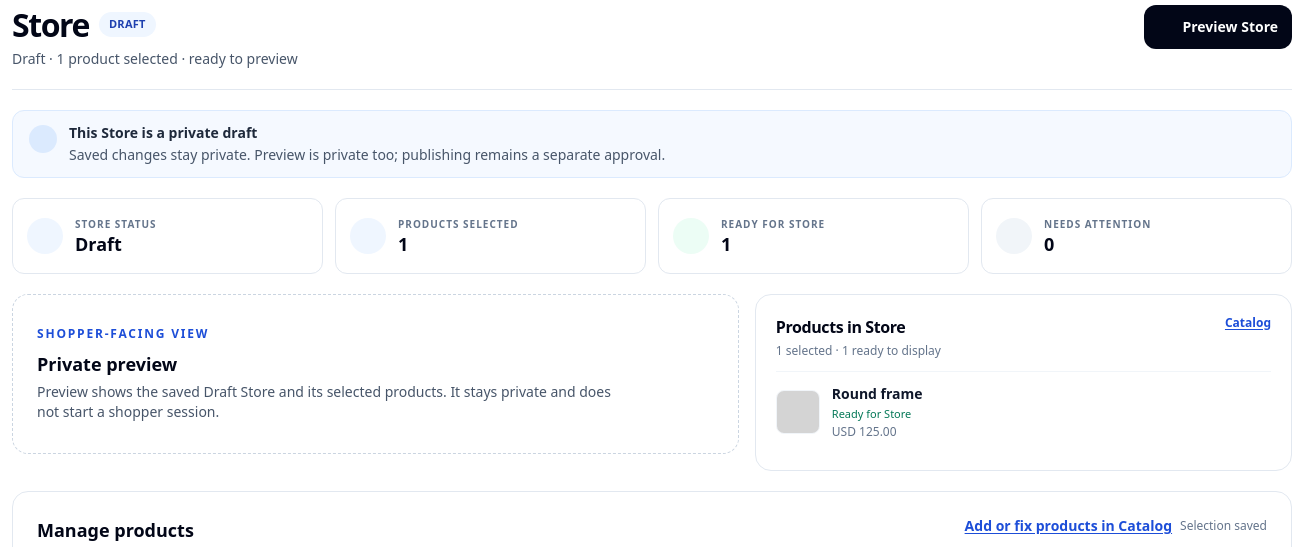
Test case: MerchantStoreWorkspace lifecycle UX › tracks both B2B publish events only after an approved Draft becomes Live
What coordinates should you click on to do the following:
click the button "Preview Store"
I would click on:
 (1218, 27)
Its box is [1144,5,1292,49].
(page scrolled)
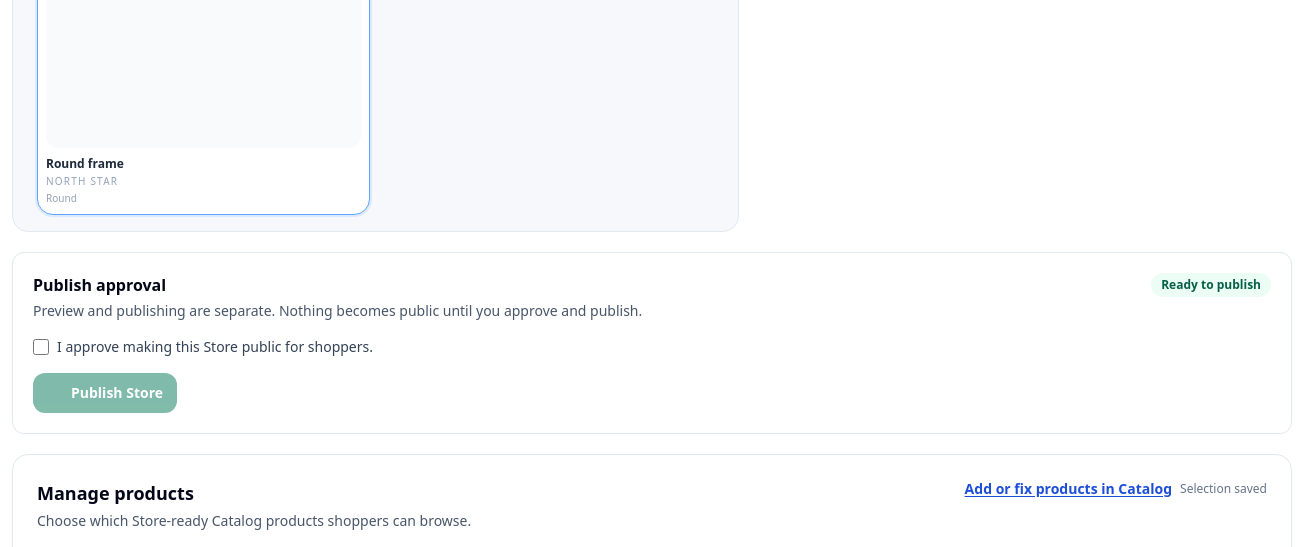
What coordinates should you click on to do the following:
click the checkbox named "I approve publishing this Store publicly"
I would click on:
 (41, 347)
Its box is [33,339,49,355].
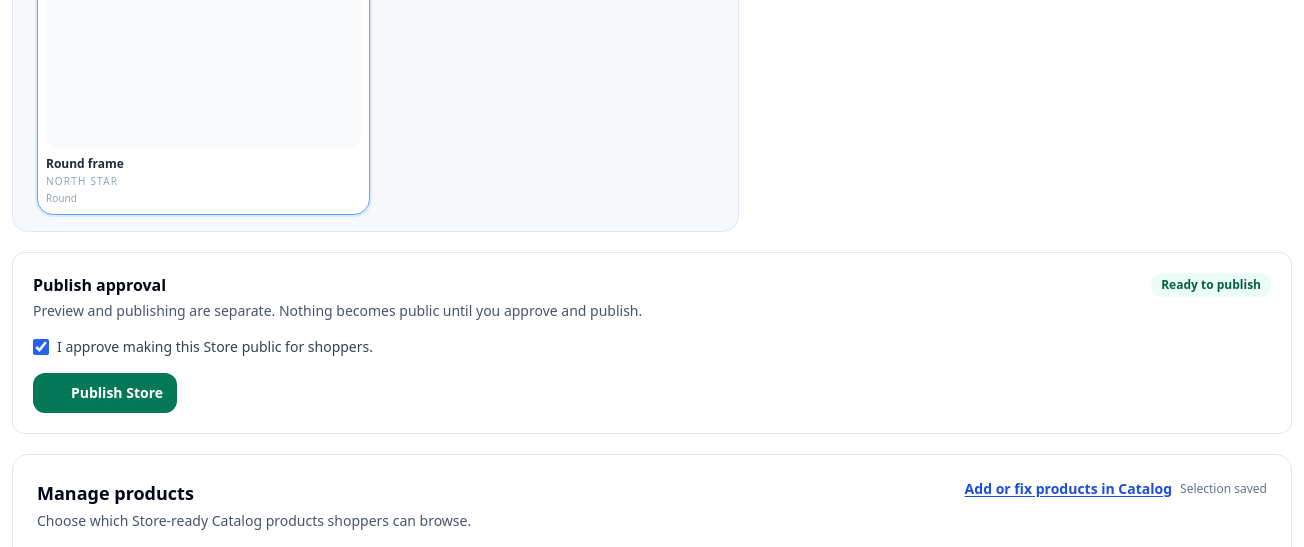
What coordinates should you click on to do the following:
click the button "Publish Store"
I would click on:
 (105, 393)
Its box is [33,373,177,413].
(page scrolled)
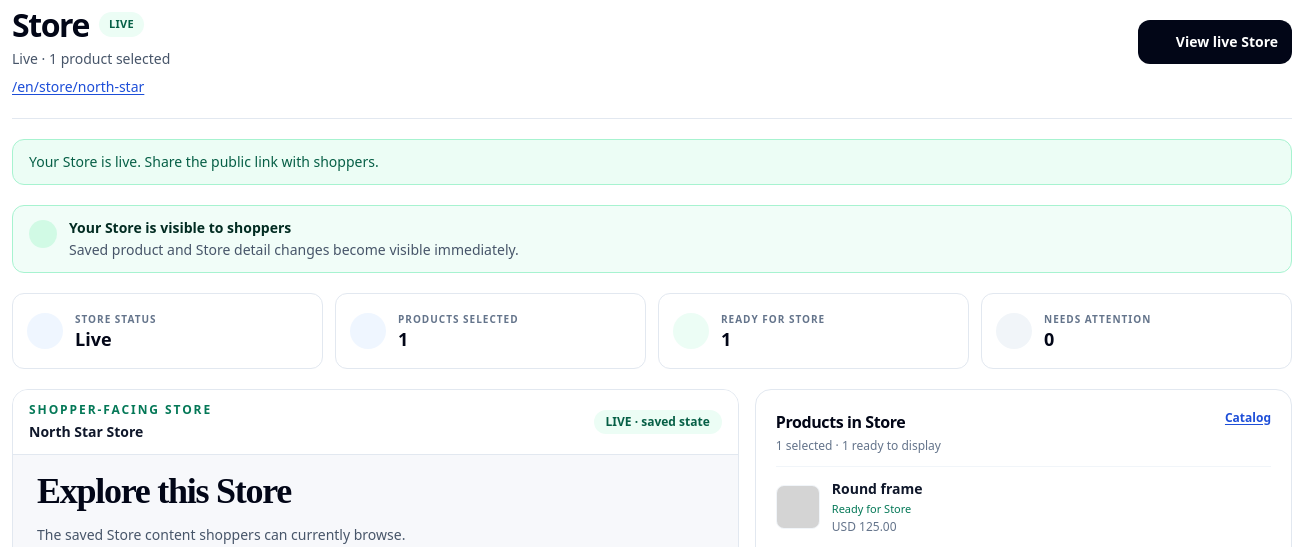
expect the text "Your Store is live. Share the public link with shoppers." is shown: met, box [12,138,1292,184]
